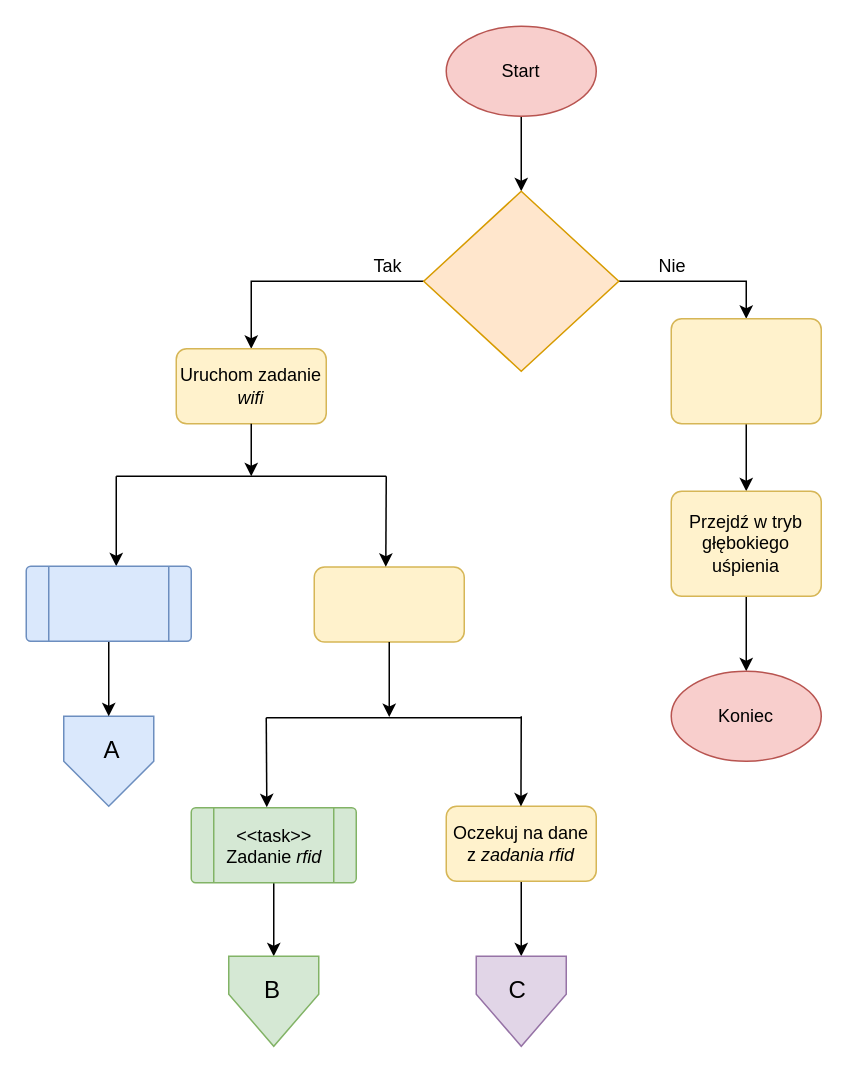
Image size: 848x1073. Some labels were removed from this diagram. Each missing label, with the centre of its shape:
<<task>> Zadanie wifi: pixel 108 603
Skonfiguruj tryb głębokiego uśpienia: pixel 745 370
Uruchom zadanie rfid: pixel 388 604
Wybudzono z głębokiego uśpienia?: pixel 520 280
